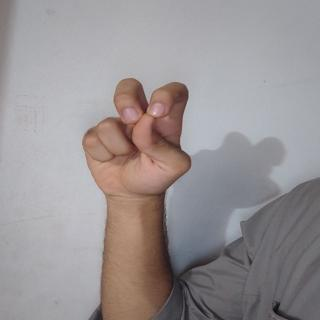NOON: (74, 72, 198, 214)
